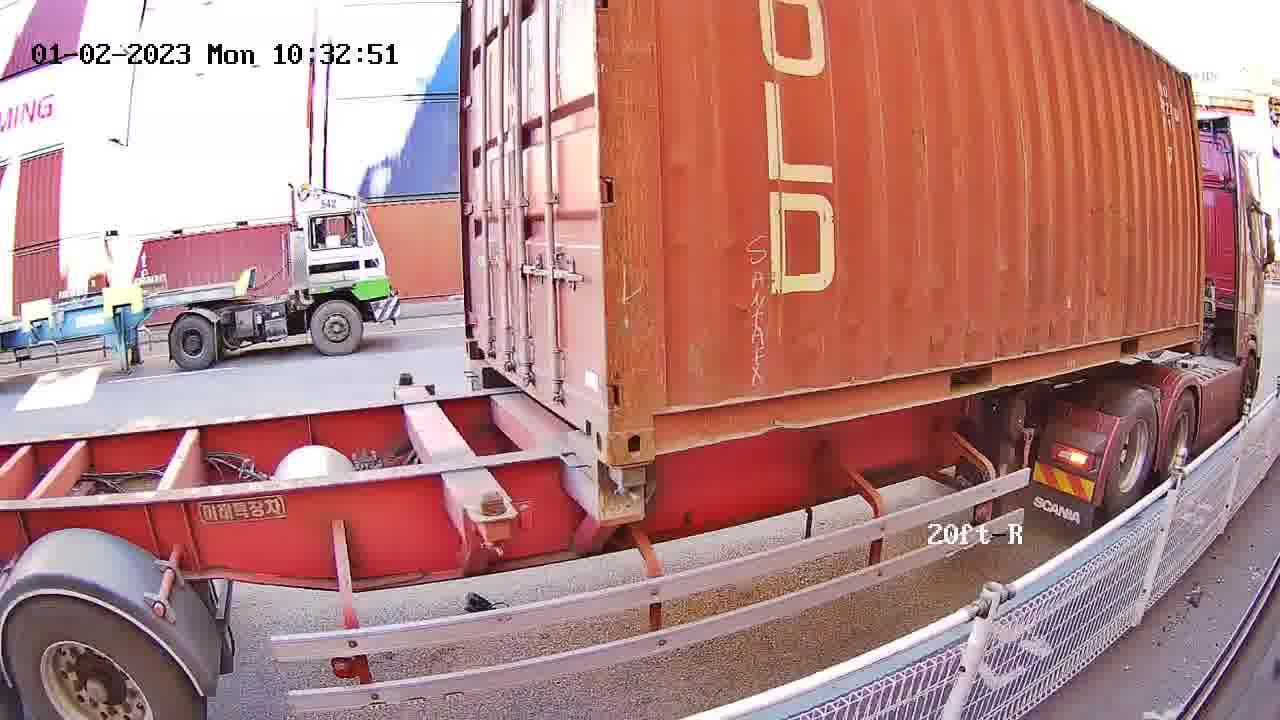Chassis: (464, 359, 648, 494)
Cone: (607, 464, 653, 498)
Hole_L: (609, 387, 694, 464), (463, 319, 491, 369)
Hole_R: (571, 379, 608, 464)
Tire: (1108, 397, 1157, 517), (1163, 391, 1198, 487)
